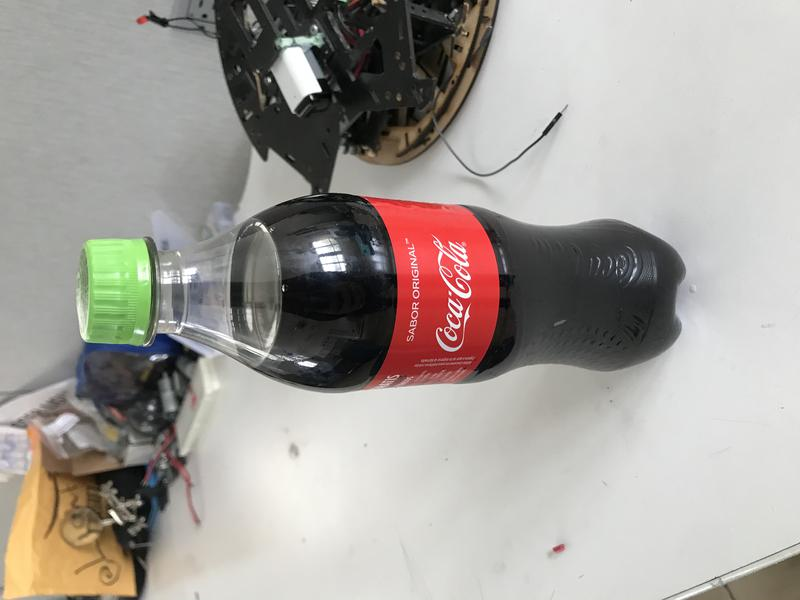coca_cola: (73, 193, 687, 394)
